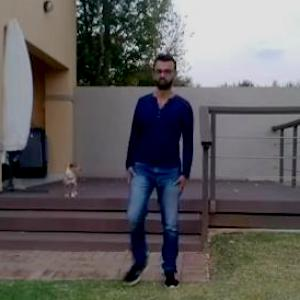follow: (137, 58, 191, 278)
